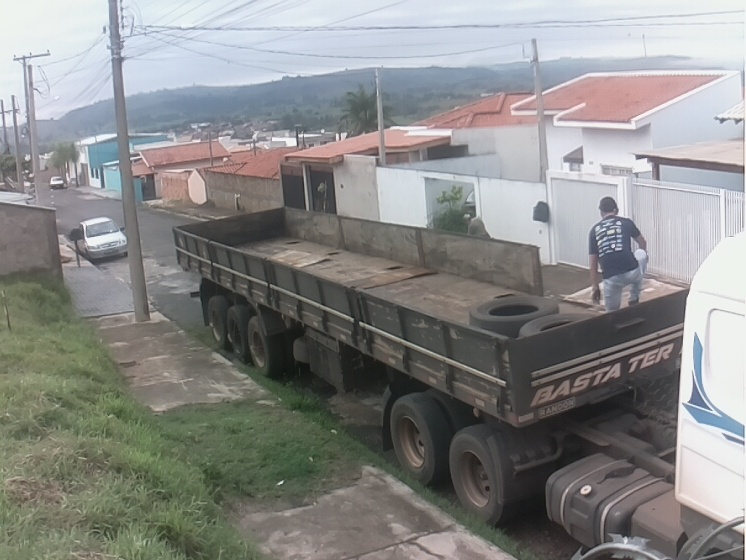person: (587, 195, 649, 314), (461, 214, 491, 240)
